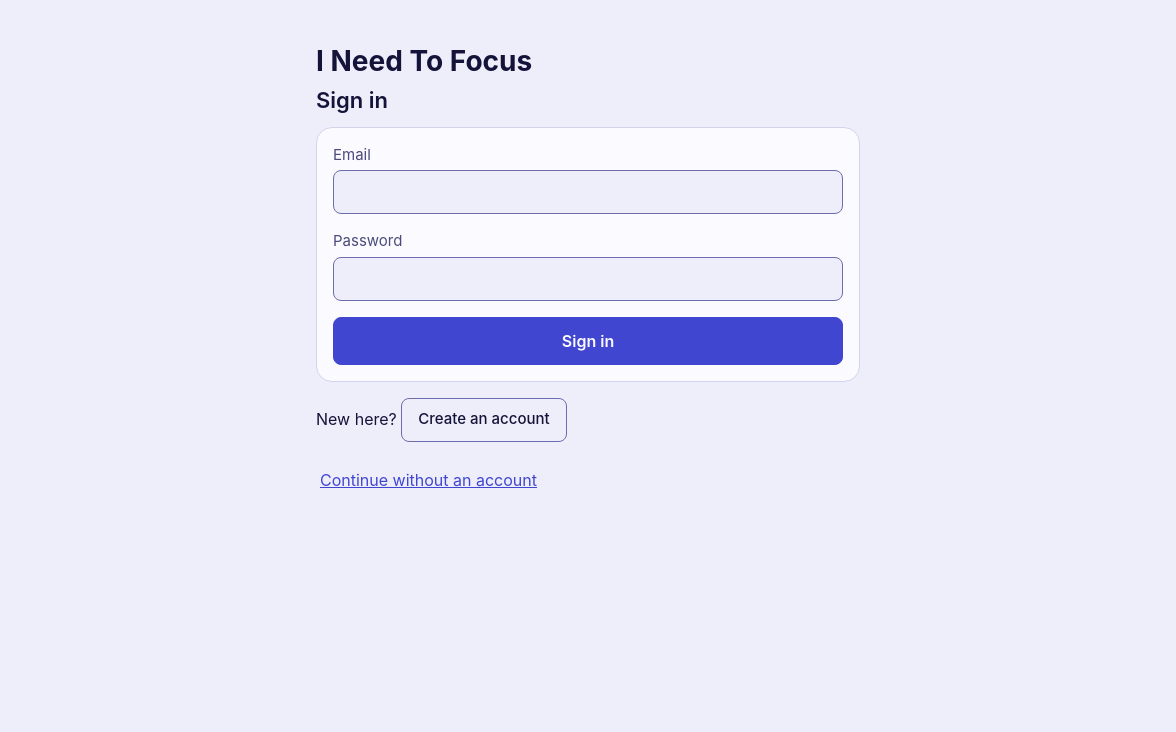
Test: AuthGate › signs up (which signs in) and shows a duplicate-email error on the email field
The width and height of the screenshot is (1176, 732).
Expected: the heading "Sign in" is shown, [316,87,388,113]
Click the button "Create an account". click: (484, 420)
box: [401,398,567,442]
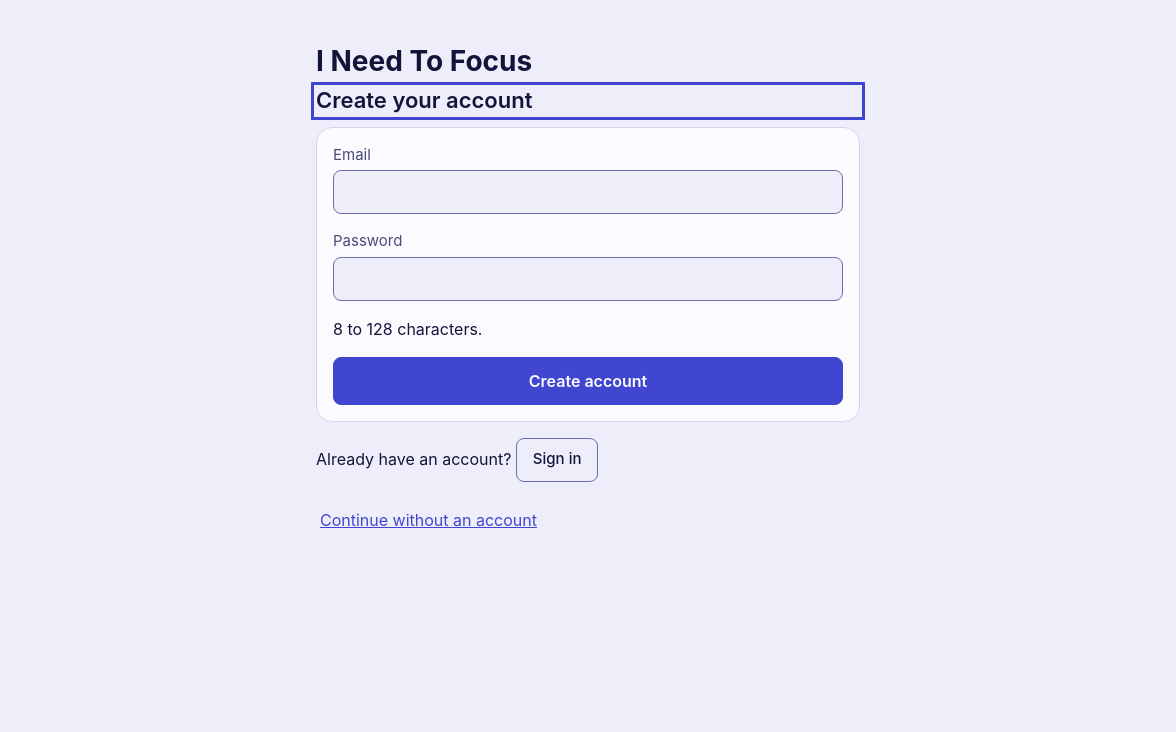
Type "a@b.co" into the field labelled "Email". click: (588, 192)
box: [333,170,843,214]
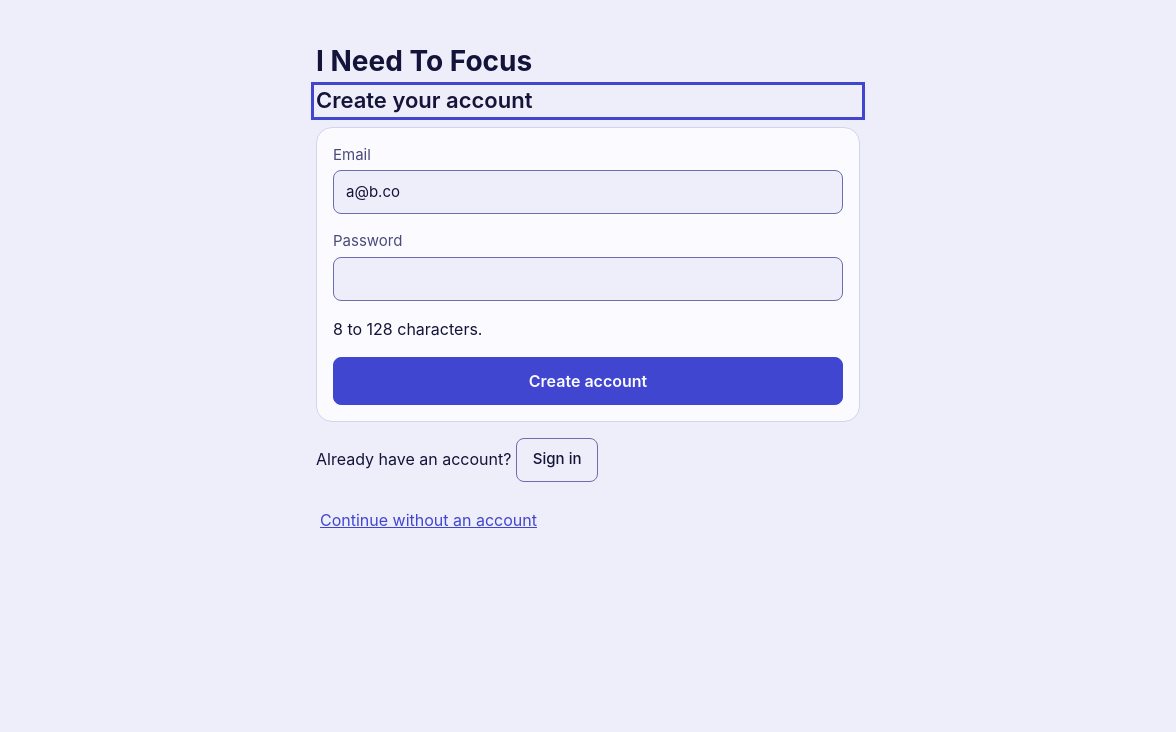
Type "password1" into the password field labelled "Password". click: (588, 278)
box: [333,256,843,300]
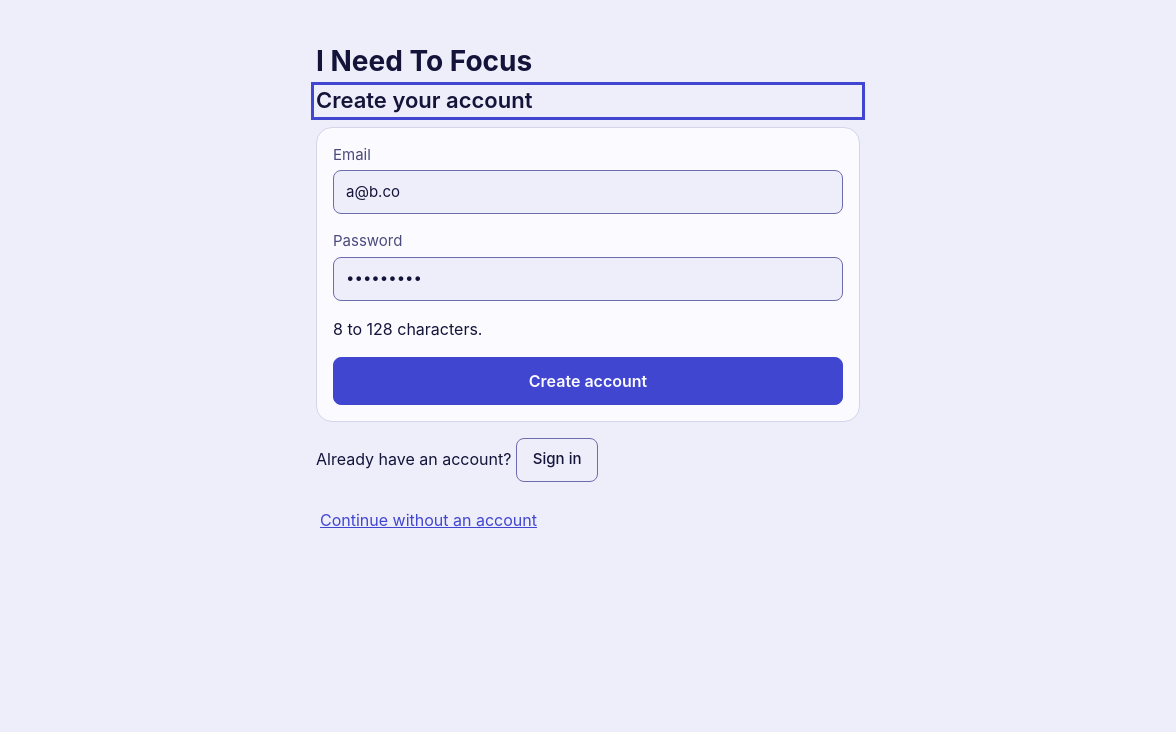
Click the button "Create account". click: (588, 380)
box: [333,356,843,404]
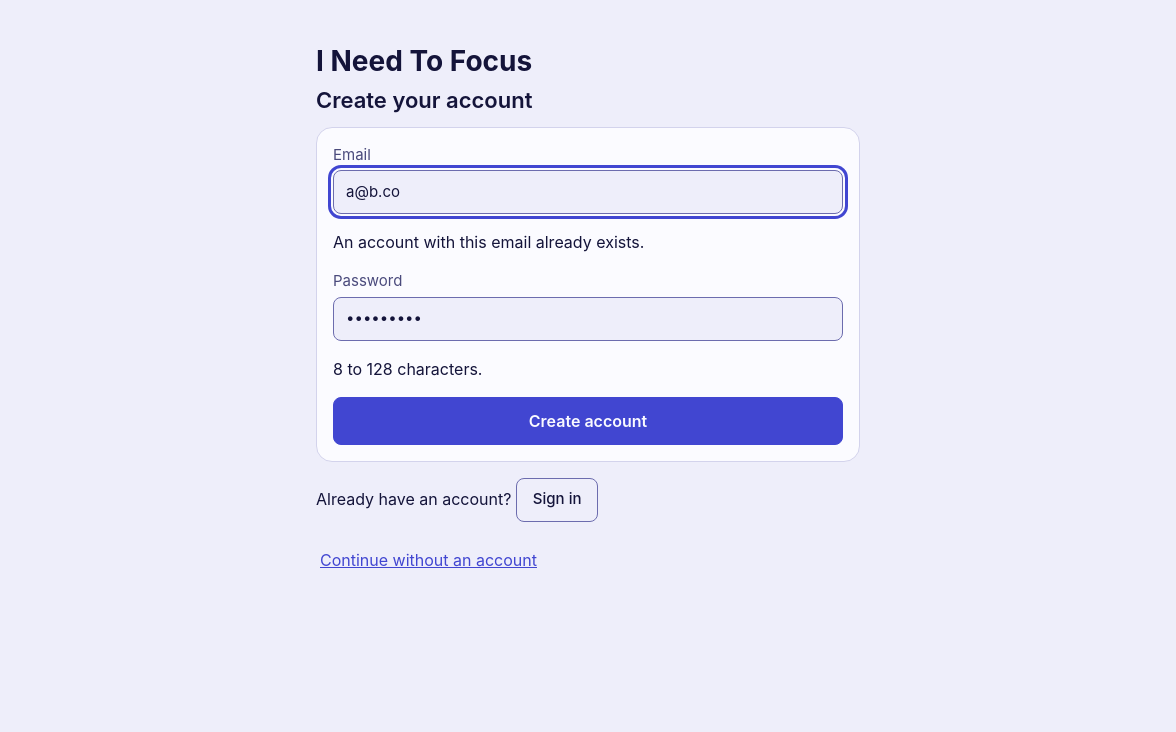
Expected: the text "An account with this email already exists." is shown, [333,232,644,252]
Click the button "Create account". click: (588, 420)
box: [333,396,843,444]
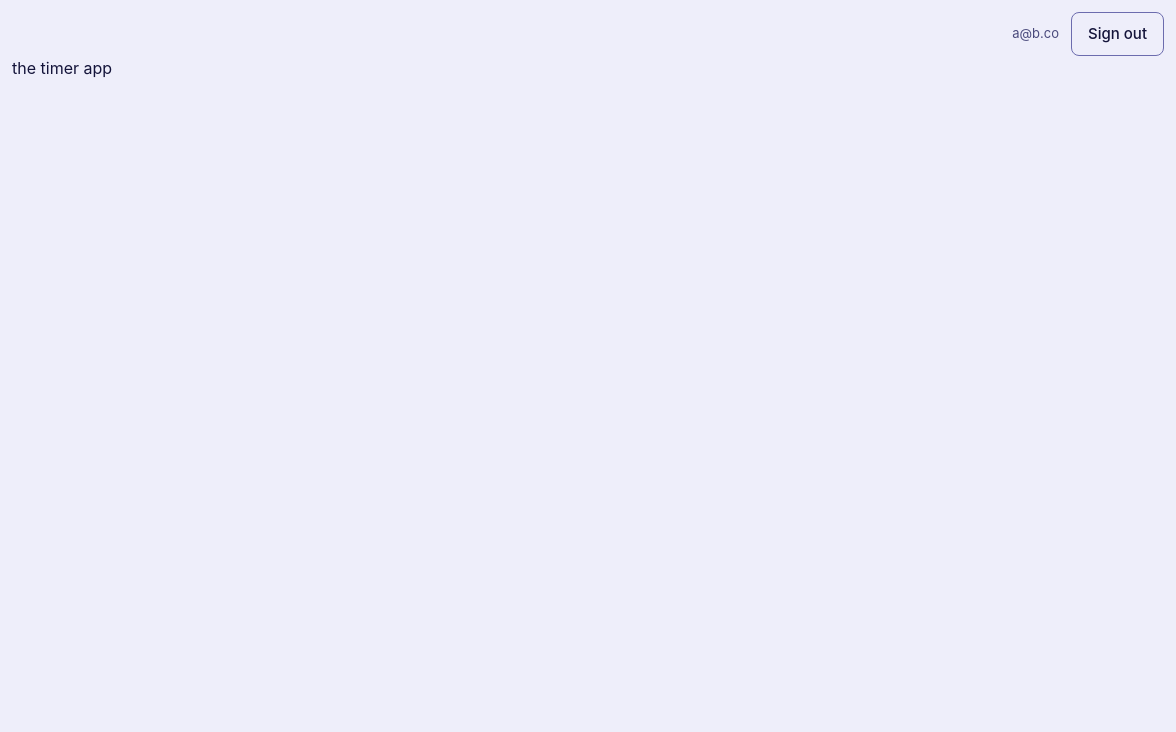
Expected: the text "the timer app" is shown, [12,58,112,78]
